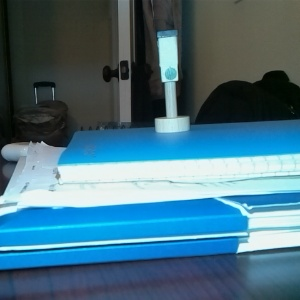traffic light green: (152, 27, 191, 135)
